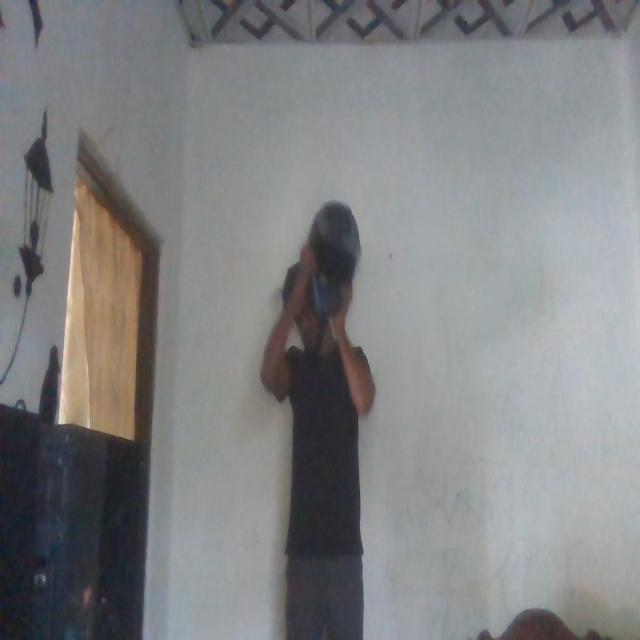Person: (259, 215, 393, 639)
